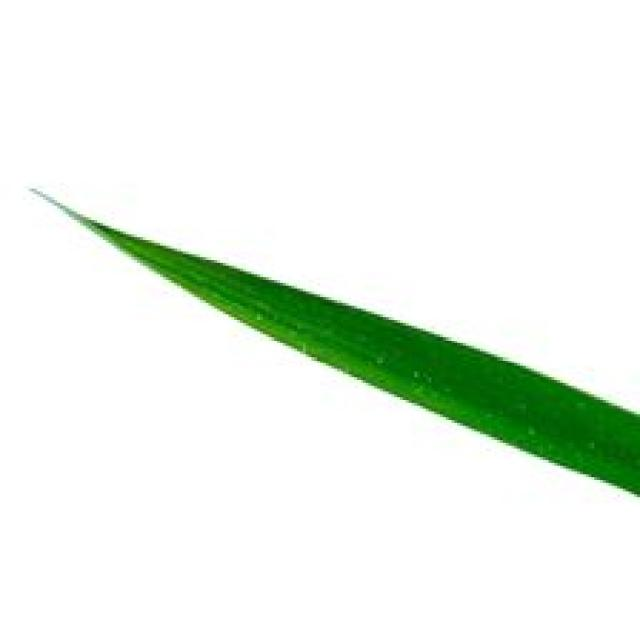Rice___Healthy_Rice_Plant: (29, 186, 637, 502)
